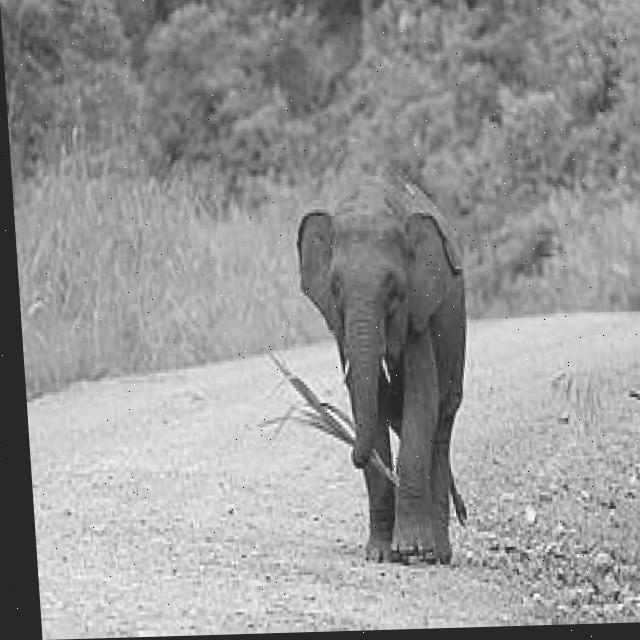Elephant: (289, 161, 483, 569)
